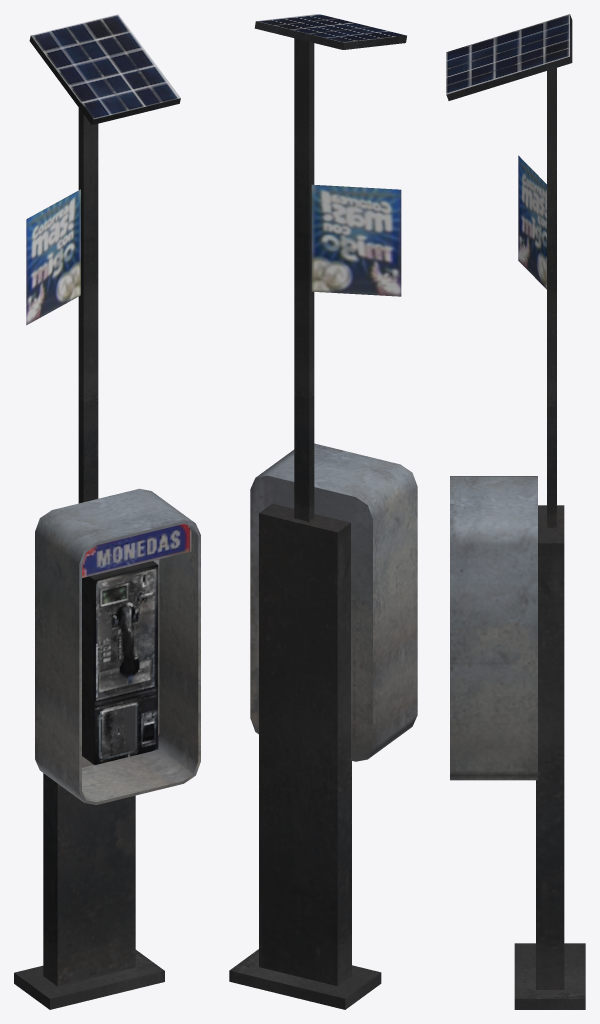
Rendered from telefono.fbx.
3 renders of one model, left to right at view 1: azimuth 30°, elevation 25°; view 2: azimuth 150°, elevation 25°; view 3: azimuth 270°, elevation 25°, orthographic.
Visible parts, largest first — view 1: Public_phone.001; view 2: Public_phone.001; view 3: Public_phone.001.
Boxes of the visible parts, bbox=[...] form: Public_phone.001: bbox=[14, 14, 200, 1009]; Public_phone.001: bbox=[229, 14, 417, 1009]; Public_phone.001: bbox=[446, 14, 585, 1009].
Bounding box in the file's own units: 65.69 × 427 × 57.02.
Materials: 1 (1 with a texture image).
